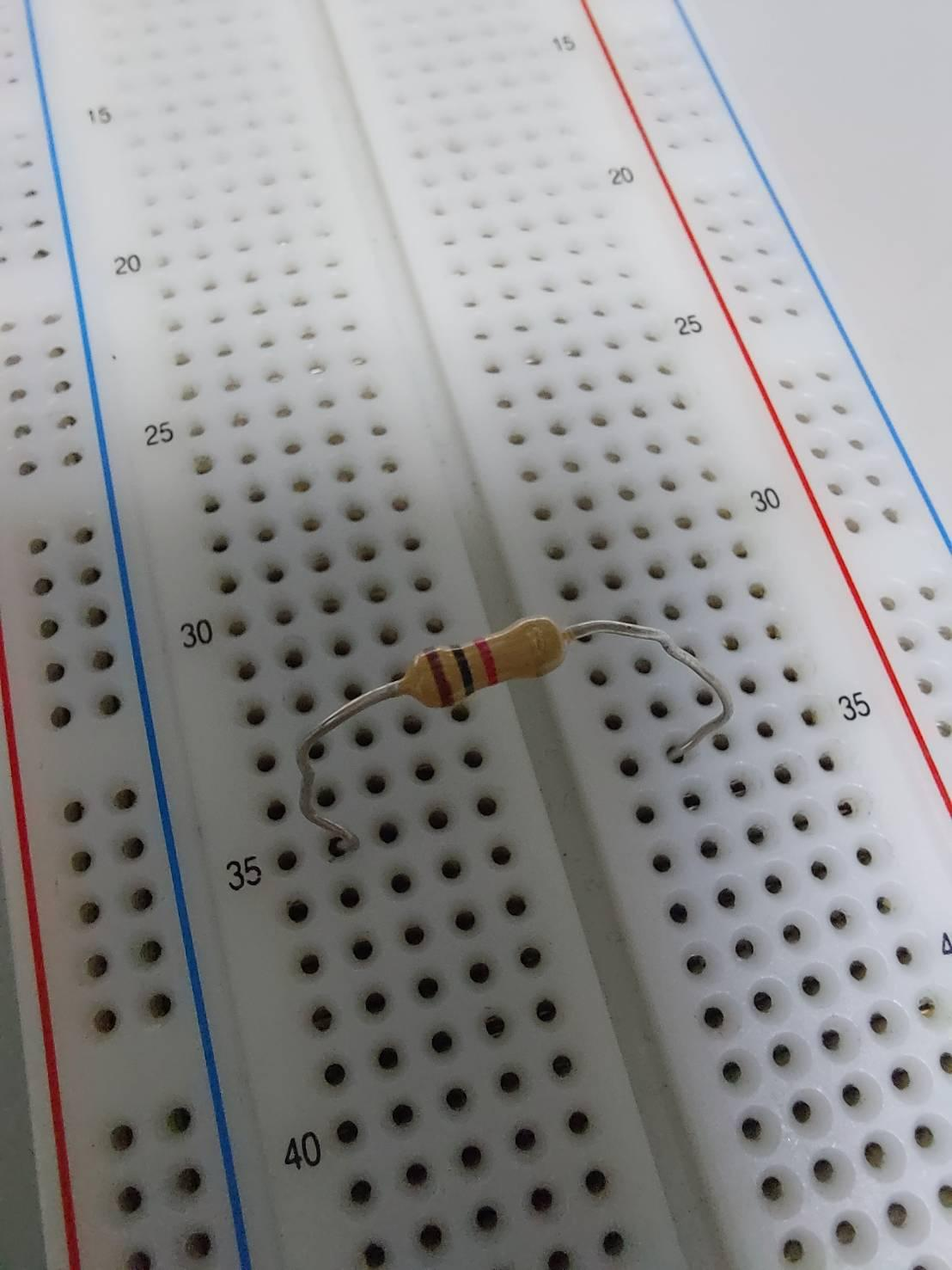resistor: (400, 596, 566, 724)
